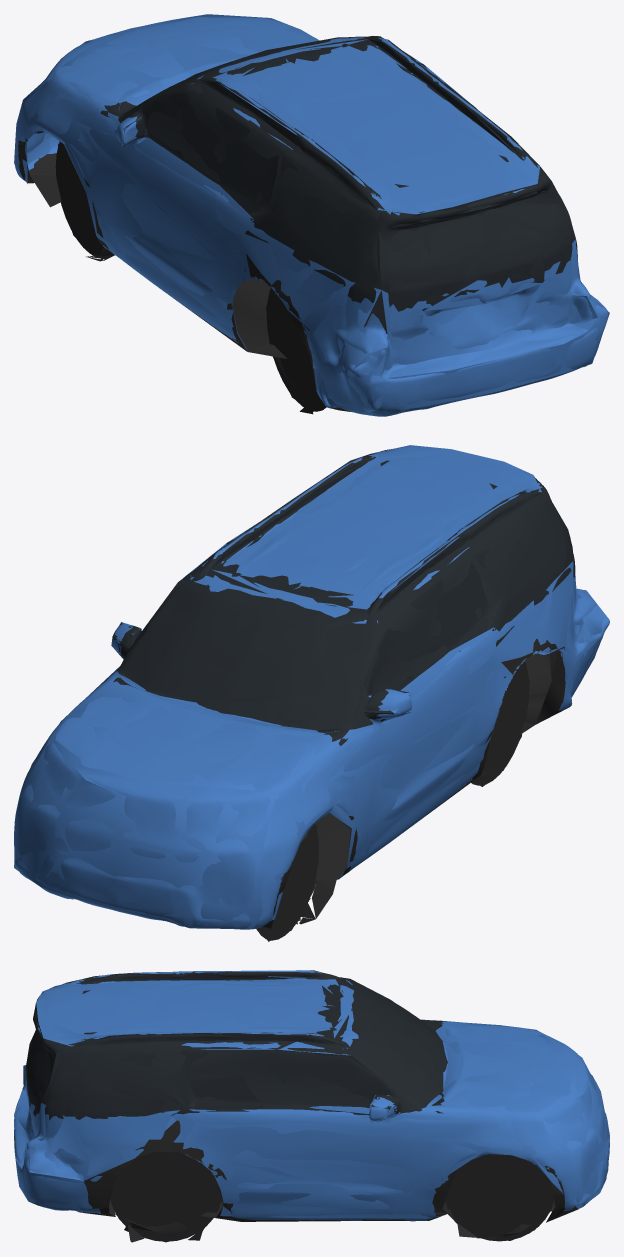
Rendered from land-rover-discovery.glb.
3 views of the same model, one above another, from view 1: azimuth 30°, elevation 25°; view 2: azimuth 150°, elevation 25°; view 3: azimuth 270°, elevation 25° (orthographic). The views are drawn at different scales.
Parts seen in each view (by area): view 1: body, far; view 2: body, far; view 3: body, far.
Boxes of the visible parts, x1,y1,x2,y2 form: body: (14, 17, 608, 416); far: (14, 14, 609, 416); body: (14, 445, 609, 940); far: (14, 445, 609, 941); body: (14, 970, 609, 1241); far: (14, 970, 609, 1242).
Size of the model in its own units: 2.26 by 1.88 by 5.02.
